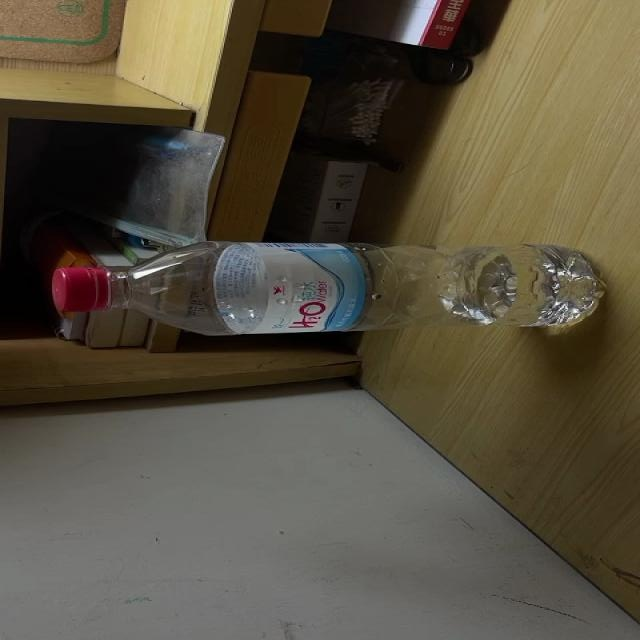Water: (51, 242, 605, 335)
